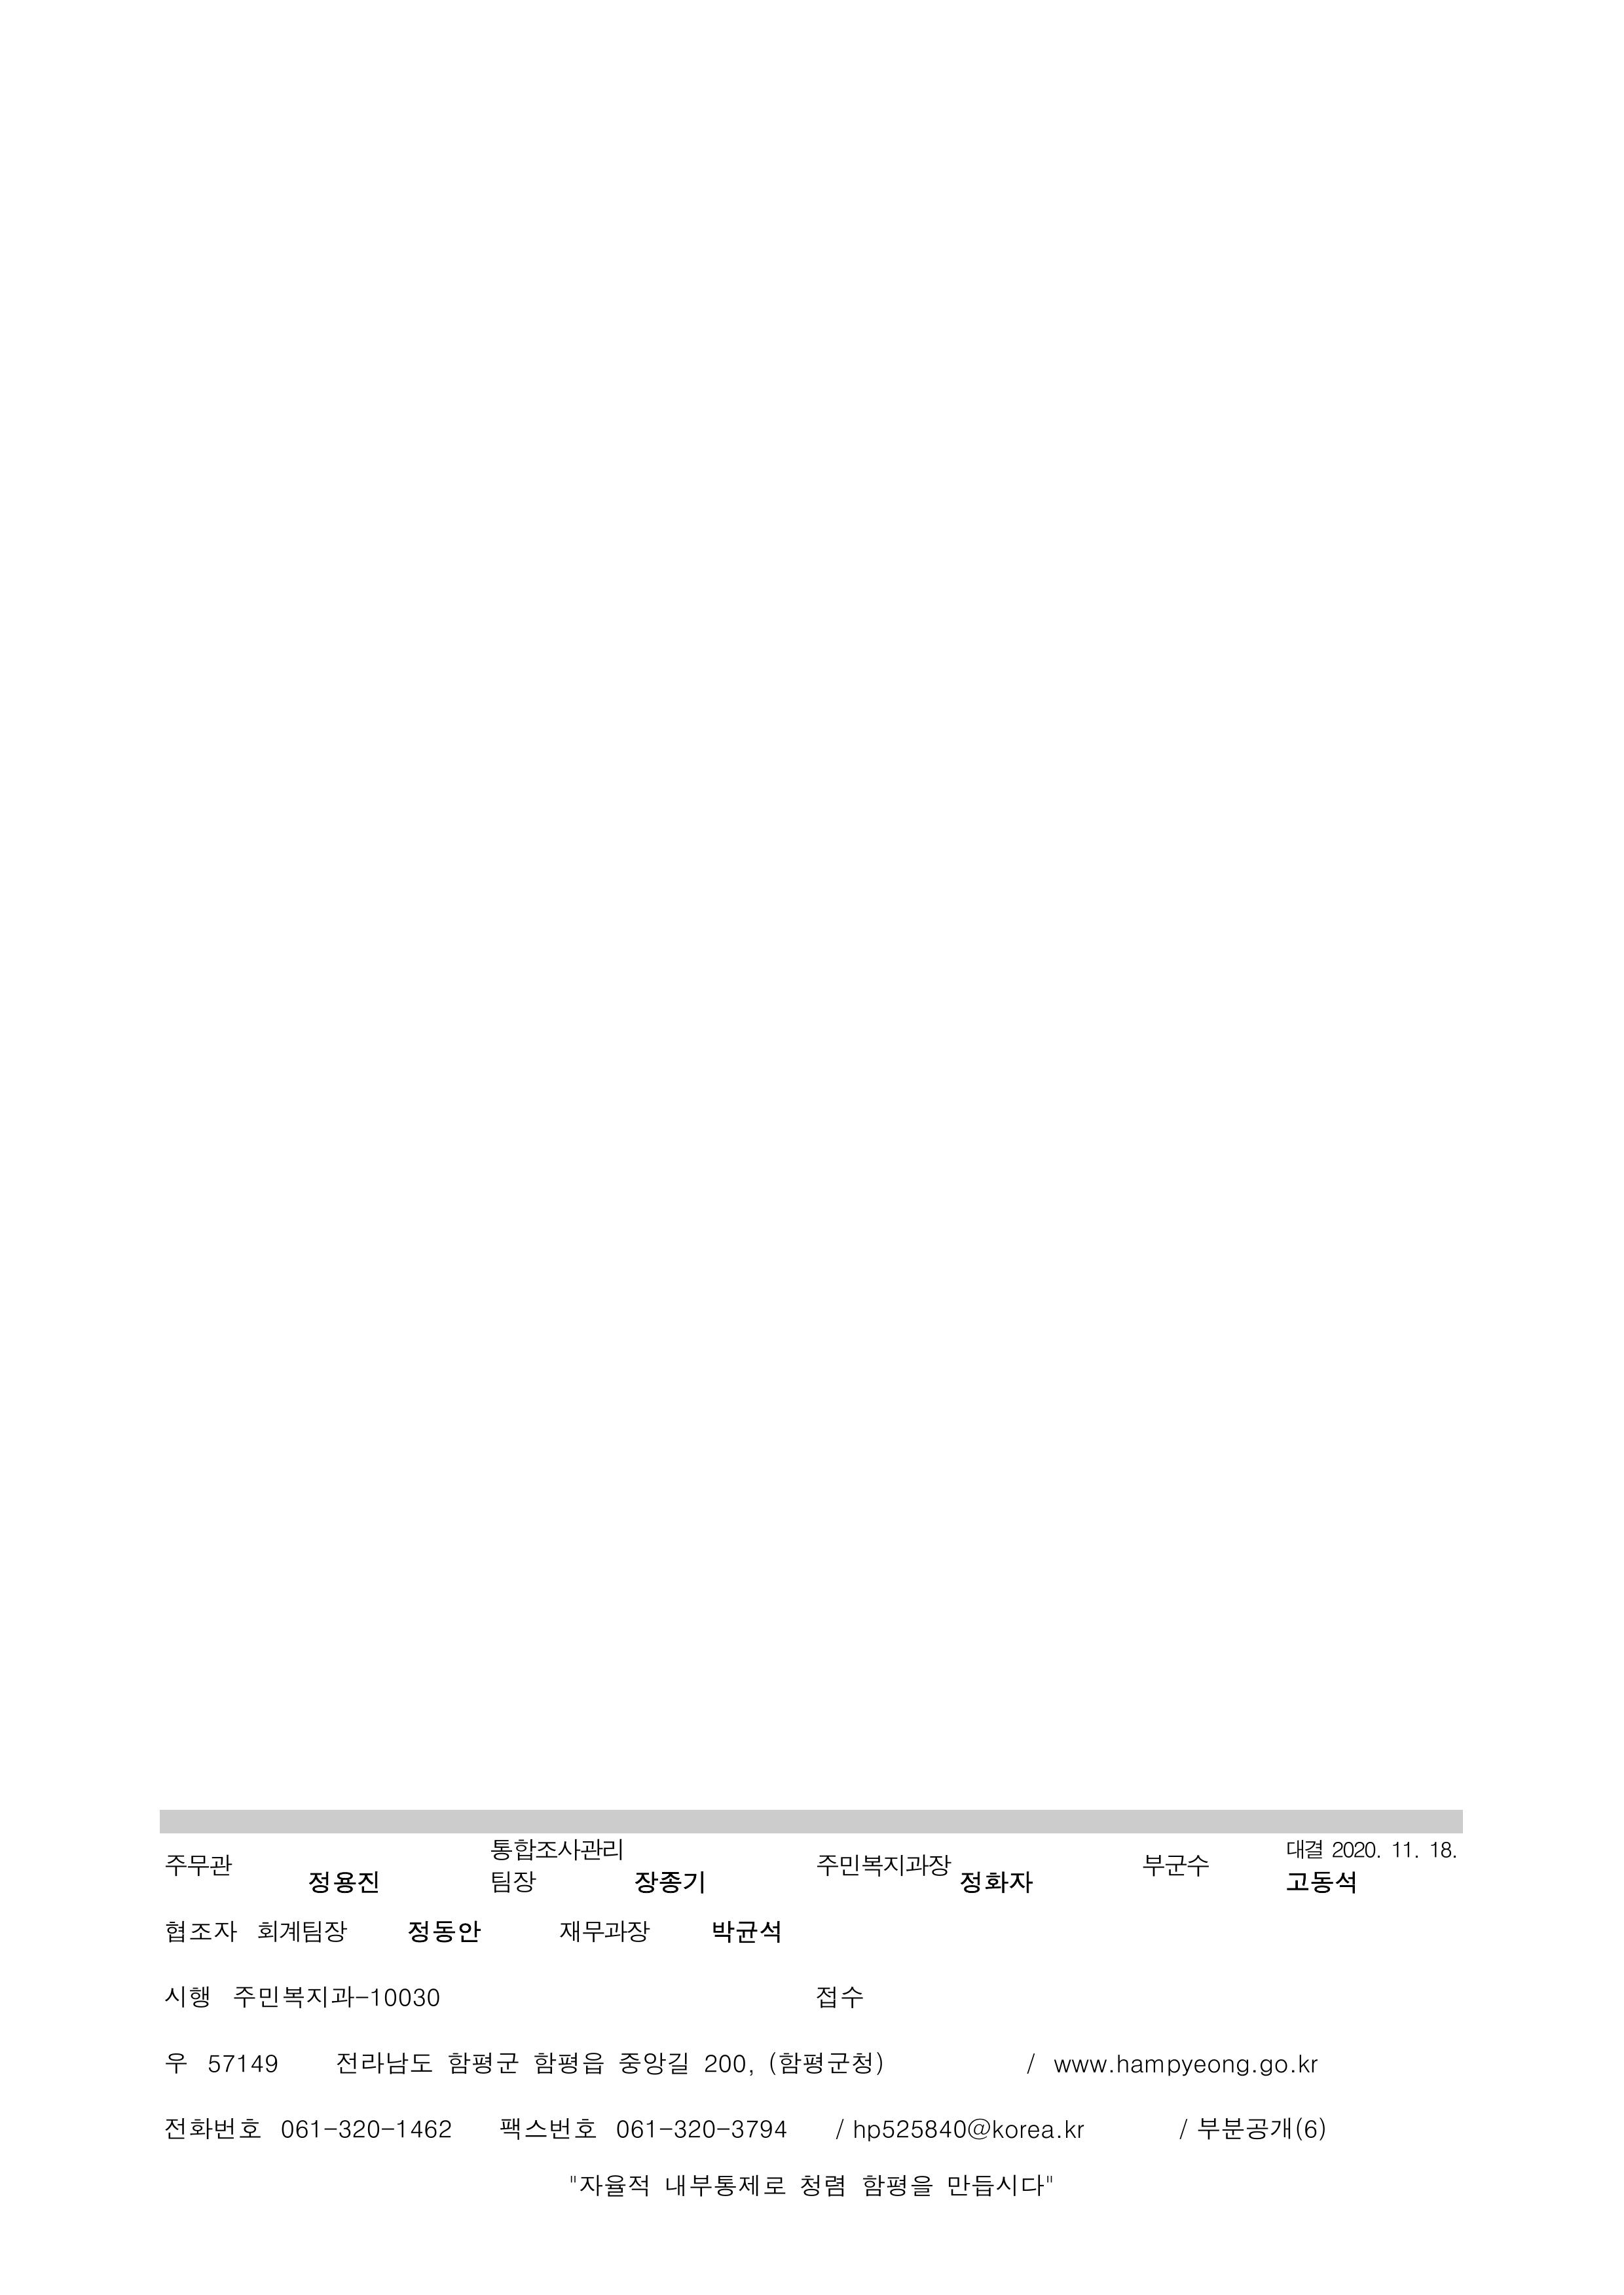t: (853, 2119, 1054, 2144), (1194, 2112, 1327, 2144), (659, 2169, 788, 2201), (764, 2047, 885, 2080), (232, 1987, 383, 2011), (616, 2119, 788, 2140), (943, 2169, 1054, 2201), (817, 1854, 953, 1879), (491, 1839, 623, 1864), (1115, 2054, 1252, 2078), (254, 1915, 348, 1947), (498, 2116, 599, 2144), (337, 2051, 434, 2080), (953, 1864, 1036, 1897), (559, 1918, 652, 1947), (405, 1915, 484, 1947), (613, 2047, 692, 2080), (566, 2173, 652, 2201), (304, 1864, 380, 1897), (1283, 1864, 1359, 1897), (445, 2047, 520, 2080), (530, 2047, 606, 2080), (161, 2112, 236, 2144), (857, 2169, 932, 2201), (631, 1868, 706, 1897), (710, 1918, 781, 1947), (1140, 1850, 1208, 1879), (322, 2119, 412, 2140), (164, 1922, 240, 1947), (208, 2051, 283, 2076), (164, 1854, 236, 1879), (796, 2169, 846, 2201), (814, 1979, 864, 2011), (383, 1987, 445, 2011), (487, 1868, 538, 1897), (703, 2051, 756, 2076), (164, 1987, 212, 2011), (1330, 1839, 1384, 1861), (1050, 2058, 1111, 2076), (280, 2119, 326, 2140), (409, 2119, 455, 2140), (1287, 1839, 1323, 1861), (1259, 2058, 1291, 2080), (1391, 1839, 1416, 1861), (1427, 1839, 1452, 1861), (240, 2119, 261, 2140), (168, 2051, 186, 2076), (1295, 2058, 1319, 2076), (1061, 2123, 1086, 2140)
